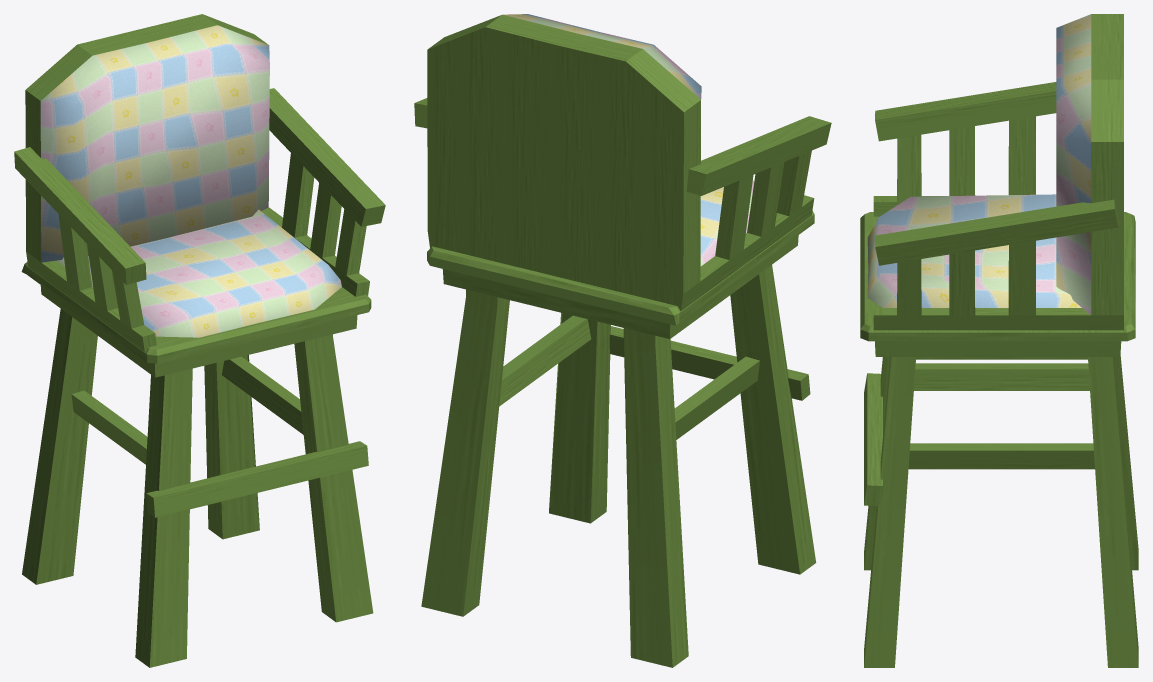
The model's file is High_Chair_D.FBX.
The picture shows the model from 3 angles, left to right: view 1: azimuth 30°, elevation 25°; view 2: azimuth 150°, elevation 25°; view 3: azimuth 270°, elevation 25°; orthographic projection. The views are drawn at different scales.
Visible parts, largest first — view 1: High_Chair; view 2: High_Chair; view 3: High_Chair.
Boxes of the visible parts, x1=… form: High_Chair: x1=14, y1=14, x2=385, y2=667; High_Chair: x1=414, y1=14, x2=831, y2=667; High_Chair: x1=860, y1=14, x2=1138, y2=667.
Size of the model in its own units: 139 by 268 by 120.
